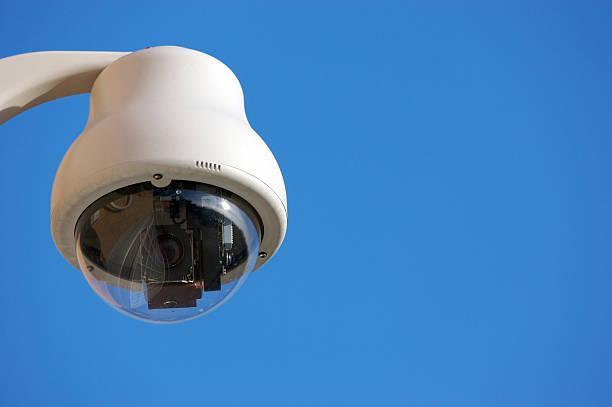camera: (17, 13, 307, 336)
